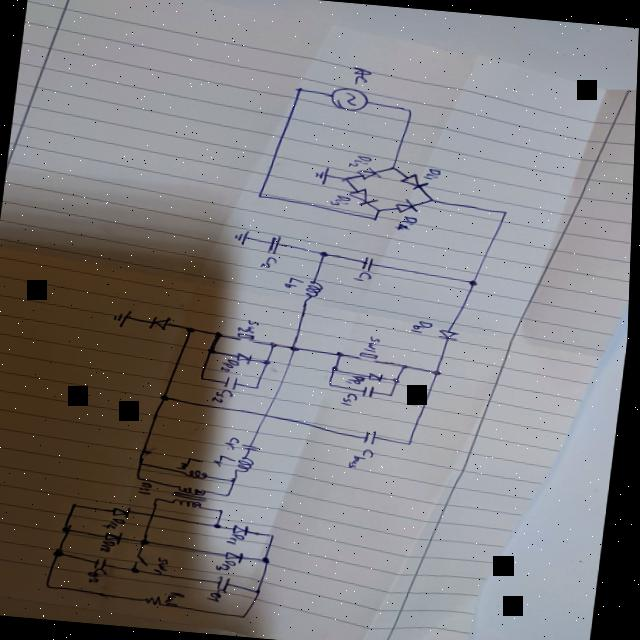capacitor: (268, 234, 287, 252), (365, 428, 383, 444), (96, 556, 114, 570), (362, 255, 378, 270), (221, 574, 236, 590), (226, 374, 243, 388), (365, 383, 378, 398), (243, 442, 265, 450)
crossover: (152, 510, 162, 518), (264, 410, 275, 417)
diode: (348, 186, 381, 206), (400, 170, 431, 189), (395, 196, 424, 214), (358, 165, 384, 180), (151, 314, 176, 329), (108, 528, 130, 544), (226, 548, 251, 562), (438, 328, 465, 340), (237, 349, 257, 362), (115, 504, 136, 516), (234, 522, 254, 534), (369, 371, 389, 382)
ground: (112, 306, 136, 326), (315, 165, 333, 184), (234, 227, 252, 244)
inductor: (305, 278, 326, 298), (182, 468, 214, 480), (238, 454, 257, 472)
junction: (57, 547, 70, 556), (332, 362, 343, 372), (320, 248, 333, 256), (342, 174, 353, 182), (258, 190, 268, 198), (163, 392, 174, 399), (296, 84, 307, 91), (134, 565, 145, 572), (469, 278, 481, 284), (434, 368, 446, 374), (217, 520, 226, 528), (265, 357, 275, 364), (144, 537, 154, 544), (272, 339, 282, 346), (292, 343, 302, 350), (390, 163, 400, 170), (403, 362, 413, 369), (428, 195, 438, 202), (409, 438, 419, 445), (67, 525, 77, 532), (394, 376, 405, 382), (375, 206, 386, 212), (190, 325, 199, 332), (266, 556, 276, 562), (406, 106, 416, 112), (338, 350, 347, 356), (217, 330, 226, 336), (502, 208, 511, 214), (373, 214, 381, 220), (234, 476, 242, 482), (245, 612, 253, 618), (50, 582, 58, 588), (75, 501, 83, 506), (257, 384, 265, 389), (222, 507, 230, 512), (228, 491, 236, 496), (139, 474, 147, 479), (331, 381, 339, 386), (157, 495, 165, 500), (272, 532, 281, 536), (141, 460, 150, 464), (202, 374, 209, 379), (259, 588, 267, 592), (211, 348, 219, 352), (391, 392, 399, 396)
resistor: (149, 593, 172, 605)
source: (329, 83, 374, 112)
switch: (357, 350, 385, 361), (236, 331, 261, 342), (136, 552, 154, 565)
text: (349, 446, 379, 468), (350, 64, 376, 84), (155, 554, 176, 574), (397, 213, 420, 231), (215, 452, 242, 467), (349, 152, 374, 168), (239, 317, 264, 333), (364, 334, 386, 352), (91, 566, 113, 584), (182, 454, 210, 468), (104, 516, 134, 529), (211, 586, 233, 602), (413, 318, 437, 332), (169, 589, 190, 605), (223, 356, 244, 372), (287, 274, 310, 288), (214, 387, 237, 401), (330, 192, 353, 206), (346, 372, 370, 384), (262, 254, 282, 268), (425, 166, 445, 180), (230, 530, 250, 544), (141, 479, 159, 494), (343, 391, 362, 405), (226, 434, 245, 448), (220, 558, 241, 570), (355, 269, 375, 281), (103, 539, 120, 551)
transformer: (174, 483, 214, 508)
